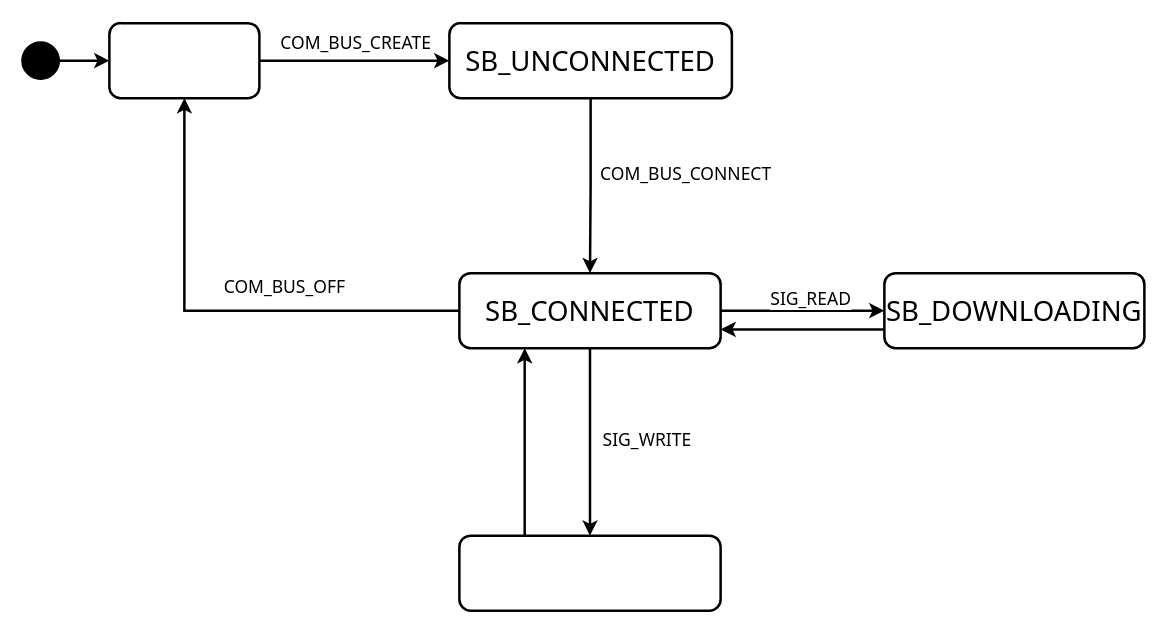
Image size: 1168x633. Some labels were removed from this diagram. The shapes that lost their labels are listed below. From the top down, each one's box as (x1, y1, x2, y2) in pixels, then its label:
(108, 21, 260, 99): OFF
(458, 534, 721, 611): IB_UPLOADING
